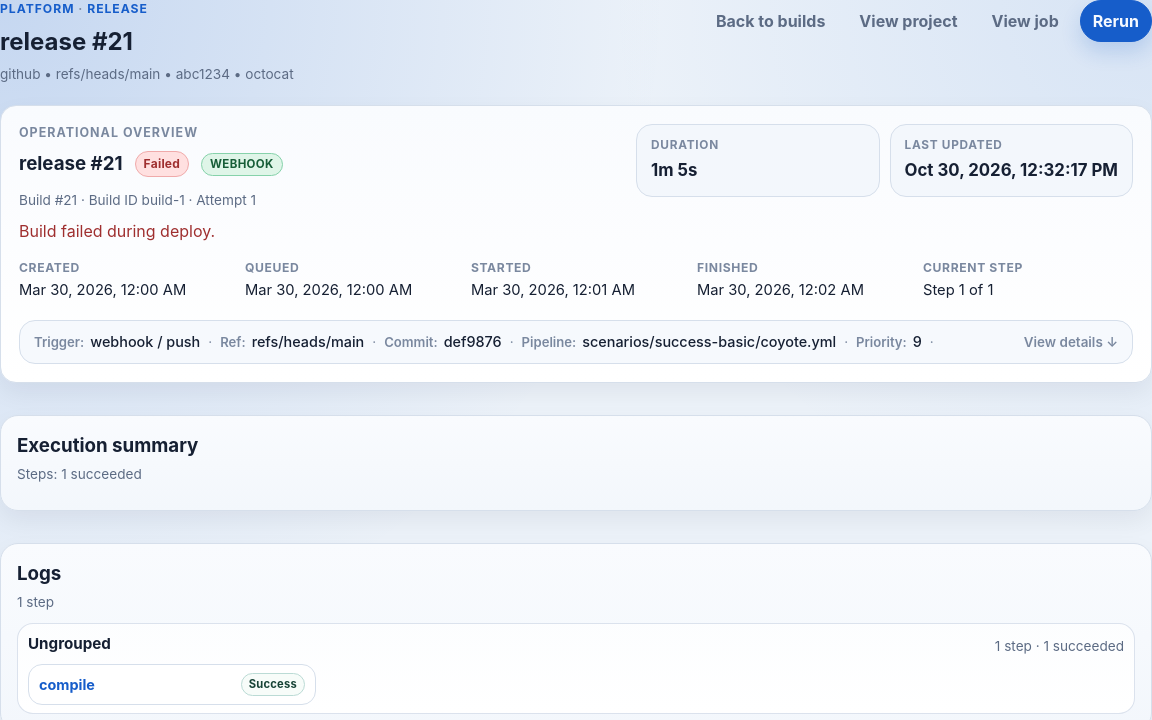
Test case: BuildDetailPage › confirms rerun and navigates to the new build
Step 1. Click the button "Rerun" → (1116, 21), box [1080, 0, 1151, 42]
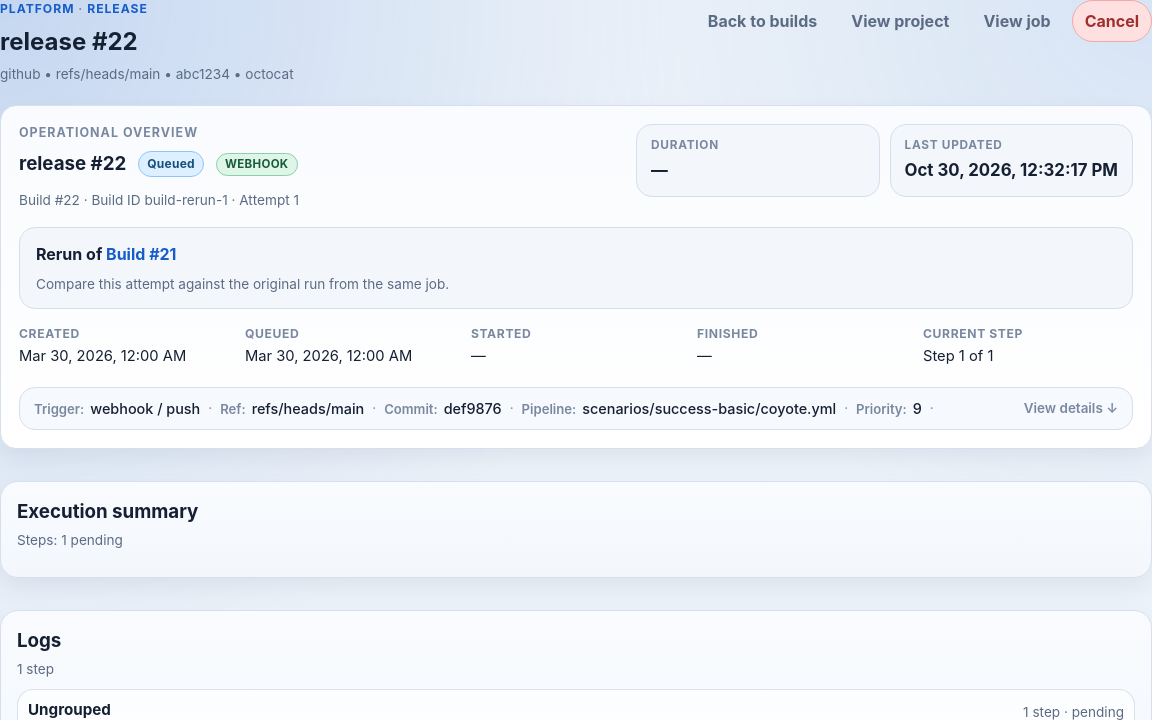
Now the heading "release #22" in the row of "Back to builds" is shown, box [0, 27, 138, 56]
